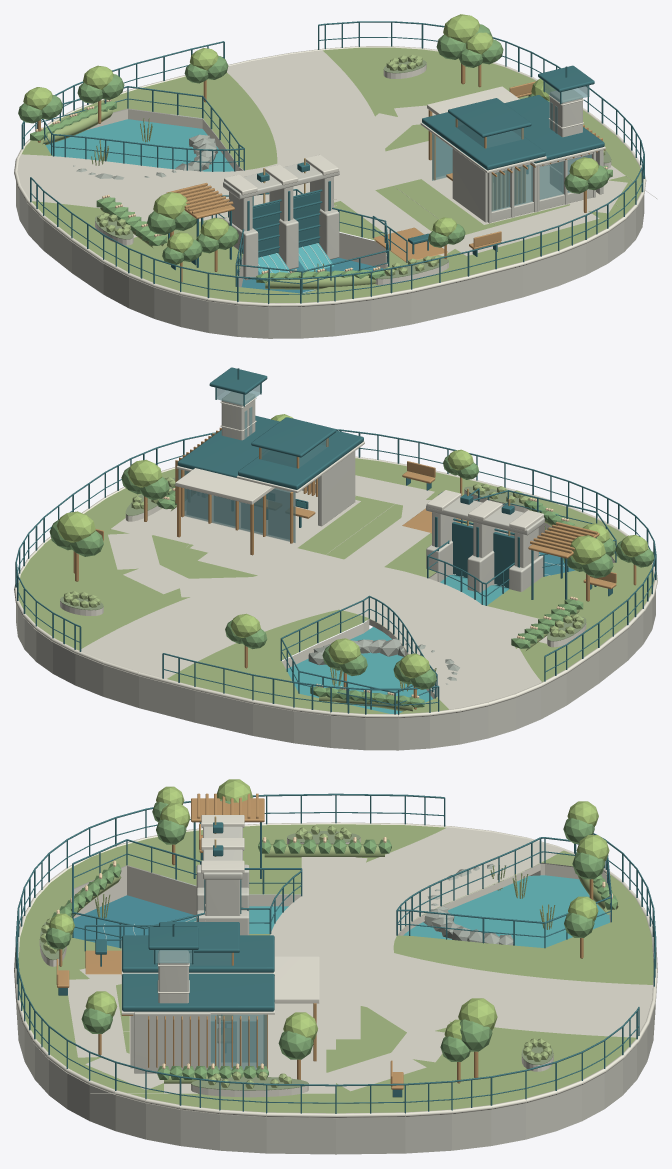
Rendered from flood-control-g.glb.
The picture shows the model from 3 angles, top to bottom: view 1: azimuth 30°, elevation 25°; view 2: azimuth 150°, elevation 25°; view 3: azimuth 270°, elevation 25°; orthographic projection. The views are drawn at different scales.
Visible parts, largest first — view 1: Terrain_Foundation_Components__Meadow bank, Terrain_Foundation_Components__Warm limestone paving, Terrain_Foundation_Components__Warm pale precast concrete, Walkways_Railings_Components__Deep teal coated steel, Vegetation_Props_Components__Canopy shade, CommandCenter_Components__Deep teal coated steel, WaterChannels_Components__Clear jade water low-cost opaque, CommandCenter_Components__Warm pale precast concrete, SluiceGate_Components__Warm pale precast concrete, Vegetation_Props_Components__Canopy light, CommandCenter_Components__Blue green glass, Terrain_Foundation_Components__Chalk coping (+12 smaller); view 2: Terrain_Foundation_Components__Warm limestone paving, Terrain_Foundation_Components__Meadow bank, Terrain_Foundation_Components__Warm pale precast concrete, Walkways_Railings_Components__Deep teal coated steel, CommandCenter_Components__Deep teal coated steel, Vegetation_Props_Components__Canopy shade, SluiceGate_Components__Warm pale precast concrete, Vegetation_Props_Components__Canopy light, CommandCenter_Components__Blue green glass, Terrain_Foundation_Components__Chalk coping, WaterChannels_Components__Clear jade water low-cost opaque, CommandCenter_Components__Warm pale precast concrete (+11 smaller); view 3: Terrain_Foundation_Components__Warm limestone paving, Terrain_Foundation_Components__Meadow bank, Terrain_Foundation_Components__Warm pale precast concrete, Walkways_Railings_Components__Deep teal coated steel, CommandCenter_Components__Deep teal coated steel, Vegetation_Props_Components__Canopy shade, WaterChannels_Components__Clear jade water low-cost opaque, CommandCenter_Components__Warm pale precast concrete, Vegetation_Props_Components__Canopy light, Terrain_Foundation_Components__Chalk coping, WaterChannels_Components__Chalk coping, Vegetation_Props_Components__Meadow bank (+11 smaller).
Part boxes in pixels (x1,y1,x2,y2): Terrain_Foundation_Components__Meadow bank: (22, 47, 641, 302); Terrain_Foundation_Components__Warm limestone paving: (17, 50, 627, 255); Terrain_Foundation_Components__Warm pale precast concrete: (16, 108, 657, 338); Walkways_Railings_Components__Deep teal coated steel: (21, 21, 644, 303); Vegetation_Props_Components__Canopy shade: (18, 24, 612, 283); CommandCenter_Components__Deep teal coated steel: (422, 65, 604, 173); WaterChannels_Components__Clear jade water low-cost opaque: (46, 119, 333, 273); CommandCenter_Components__Warm pale precast concrete: (452, 89, 603, 223); SluiceGate_Components__Warm pale precast concrete: (223, 162, 339, 280); Vegetation_Props_Components__Canopy light: (23, 14, 598, 252); CommandCenter_Components__Blue green glass: (432, 81, 591, 211); Terrain_Foundation_Components__Chalk coping: (14, 46, 646, 307); Terrain_Foundation_Components__Warm limestone paving: (79, 475, 547, 709); Terrain_Foundation_Components__Meadow bank: (18, 458, 654, 713); Terrain_Foundation_Components__Warm pale precast concrete: (16, 496, 655, 750); Walkways_Railings_Components__Deep teal coated steel: (15, 429, 656, 714); CommandCenter_Components__Deep teal coated steel: (177, 367, 363, 527); Vegetation_Props_Components__Canopy shade: (49, 455, 654, 707); SluiceGate_Components__Warm pale precast concrete: (426, 497, 544, 592); Vegetation_Props_Components__Canopy light: (56, 414, 648, 678); CommandCenter_Components__Blue green glass: (178, 383, 327, 542); Terrain_Foundation_Components__Chalk coping: (14, 456, 657, 718); WaterChannels_Components__Clear jade water low-cost opaque: (286, 575, 508, 713); CommandCenter_Components__Warm pale precast concrete: (221, 392, 355, 526); Terrain_Foundation_Components__Warm limestone paving: (68, 827, 652, 1093); Terrain_Foundation_Components__Meadow bank: (18, 824, 653, 1113); Terrain_Foundation_Components__Warm pale precast concrete: (16, 863, 655, 1154); Walkways_Railings_Components__Deep teal coated steel: (15, 793, 656, 1113); CommandCenter_Components__Deep teal coated steel: (122, 922, 274, 1020); Vegetation_Props_Components__Canopy shade: (45, 799, 617, 1079); WaterChannels_Components__Clear jade water low-cost opaque: (184, 875, 609, 947); CommandCenter_Components__Warm pale precast concrete: (130, 950, 241, 1073); Vegetation_Props_Components__Canopy light: (49, 779, 609, 1040); Terrain_Foundation_Components__Chalk coping: (14, 822, 657, 1118); WaterChannels_Components__Chalk coping: (73, 863, 610, 935); Vegetation_Props_Components__Meadow bank: (40, 825, 618, 1088).
Bounding box in the file's own units: 28.2 × 10.7 × 26.2.
